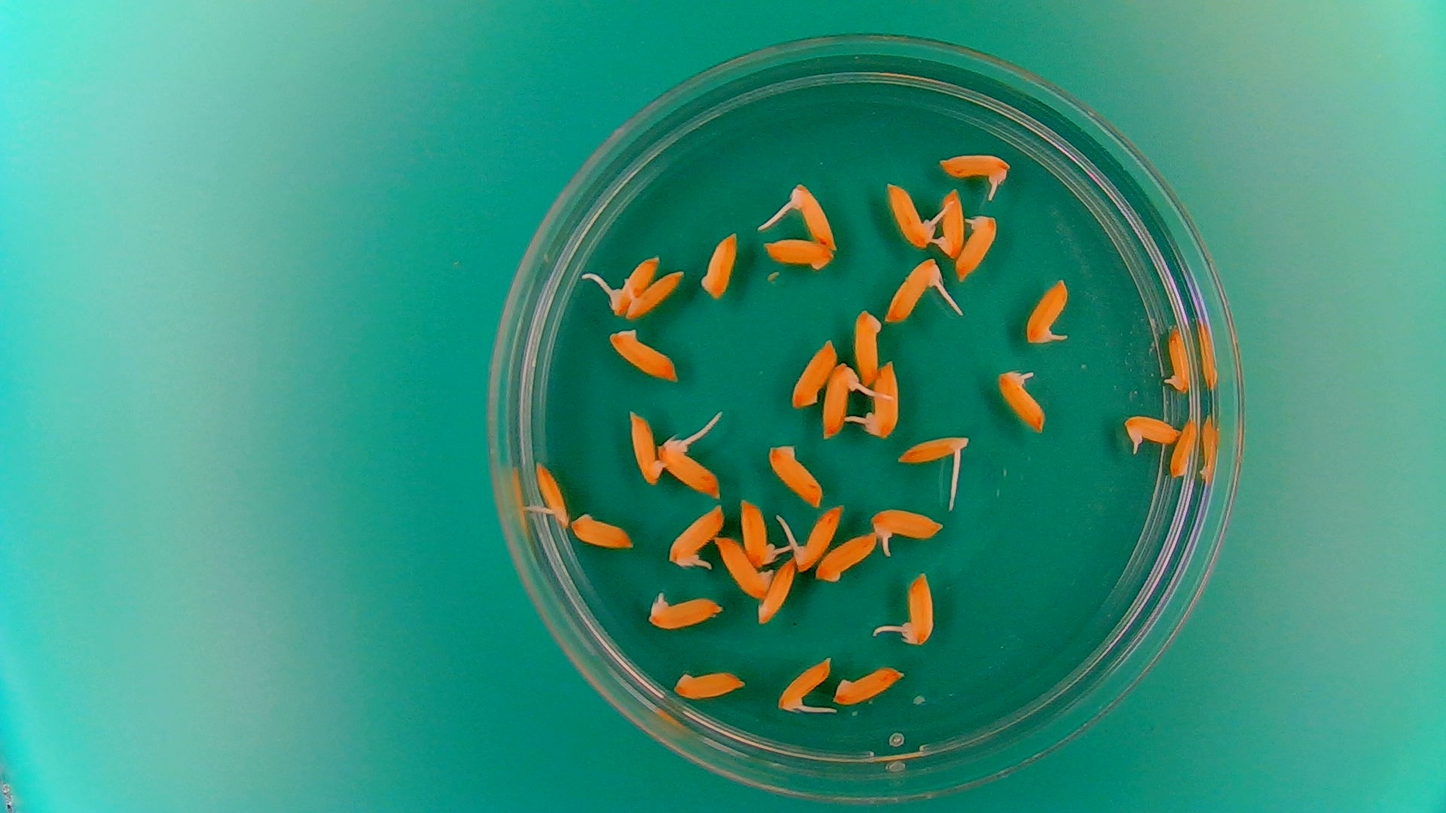no: (606, 325, 681, 384), (712, 531, 773, 600), (767, 440, 825, 508), (814, 530, 879, 585), (789, 335, 837, 409), (831, 662, 909, 706), (627, 406, 665, 488), (700, 227, 739, 303), (671, 665, 749, 702), (757, 558, 797, 627), (568, 513, 637, 553), (761, 237, 836, 272), (852, 304, 883, 385), (1170, 415, 1200, 482)
yes: (780, 501, 844, 573), (882, 256, 943, 327), (884, 178, 939, 251), (667, 501, 726, 569), (657, 440, 722, 499), (644, 586, 725, 632), (1021, 274, 1071, 347), (738, 496, 789, 566), (861, 356, 903, 440), (998, 367, 1049, 435), (776, 653, 832, 714), (820, 360, 862, 440), (604, 255, 657, 317), (787, 182, 838, 246), (624, 267, 683, 322), (955, 211, 1000, 283), (870, 508, 943, 545), (902, 573, 937, 650), (932, 184, 966, 260), (532, 460, 570, 528), (1161, 321, 1192, 395), (892, 438, 972, 466), (1122, 416, 1182, 450), (937, 153, 1009, 181)
